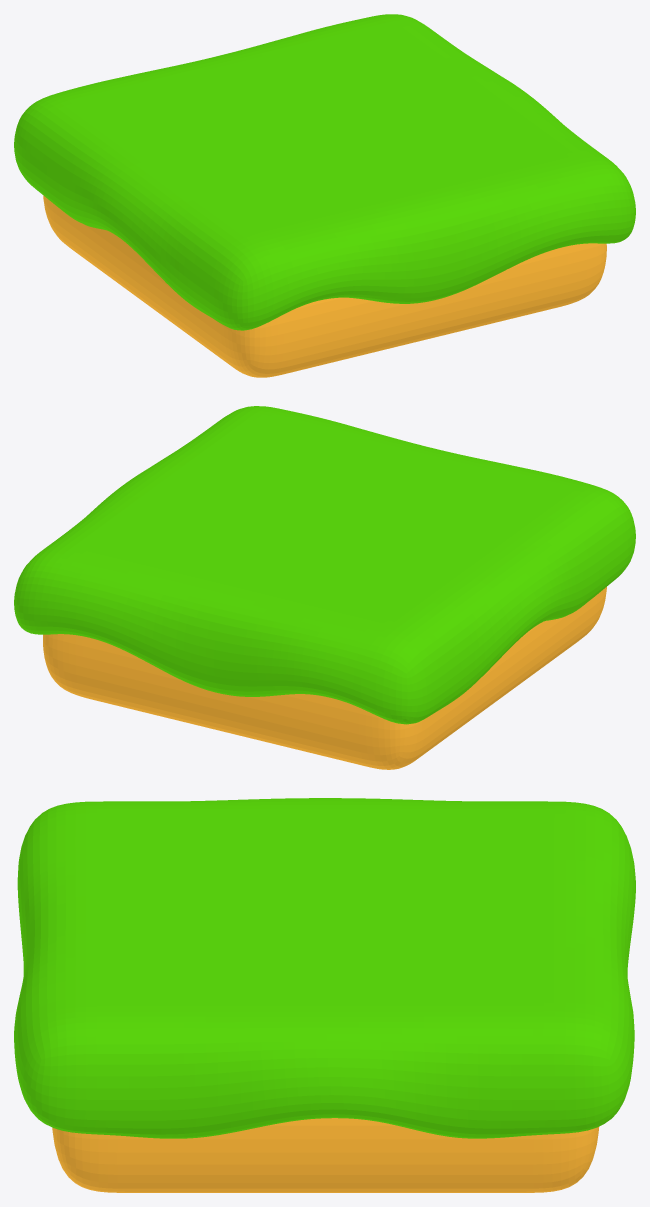
Rendered from grass_platform_for_your_video_game.glb.
3 views of the same model, one above another, from view 1: azimuth 30°, elevation 25°; view 2: azimuth 150°, elevation 25°; view 3: azimuth 270°, elevation 25° (orthographic). The views are drawn at different scales.
Parts seen in each view (by area): view 1: Cube.001, Cube; view 2: Cube.001, Cube; view 3: Cube.001, Cube.
Part boxes in pixels (x1,y1,x2,y2): Cube.001: (14, 14, 635, 330); Cube: (43, 195, 606, 377); Cube.001: (14, 406, 635, 724); Cube: (43, 587, 606, 769); Cube.001: (14, 798, 635, 1138); Cube: (52, 1118, 598, 1192).
Size of the model in its own units: 7.9 by 2.58 by 7.85.
